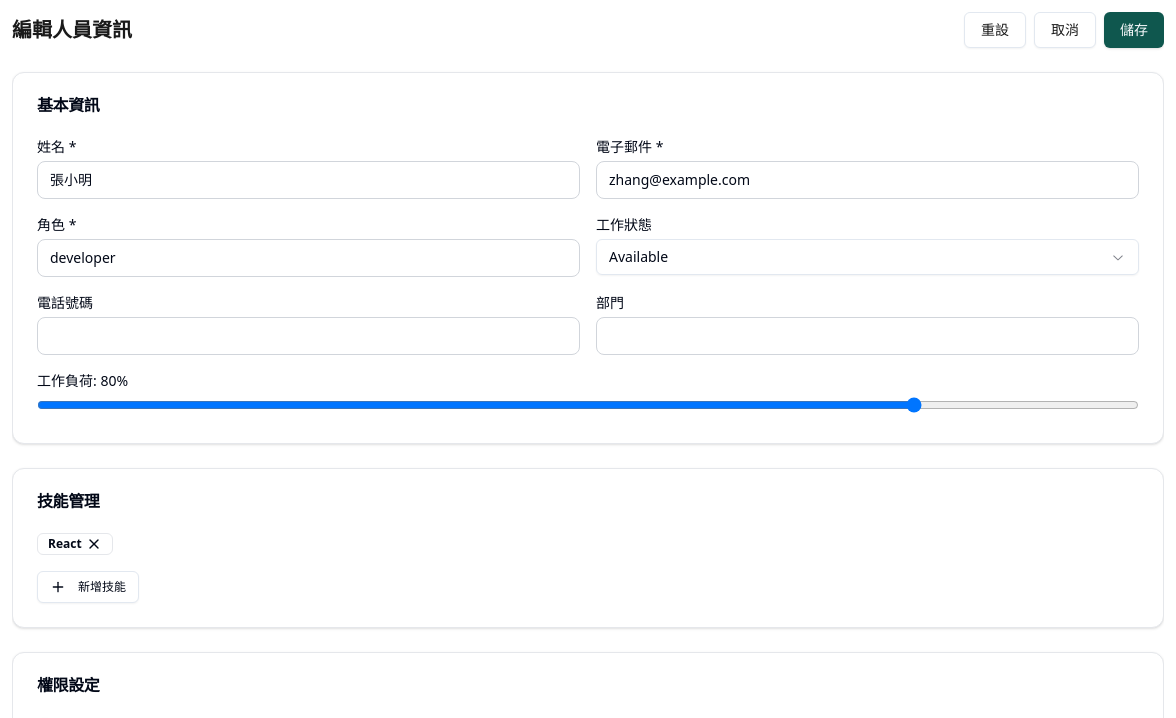
Test: MemberEditForm › 應該支援重設表單
The width and height of the screenshot is (1176, 718).
Step 1. Replace the text in the field labelled "姓名" with "測試名稱" → (308, 180), box top-left (37, 161), bottom-right (580, 199)
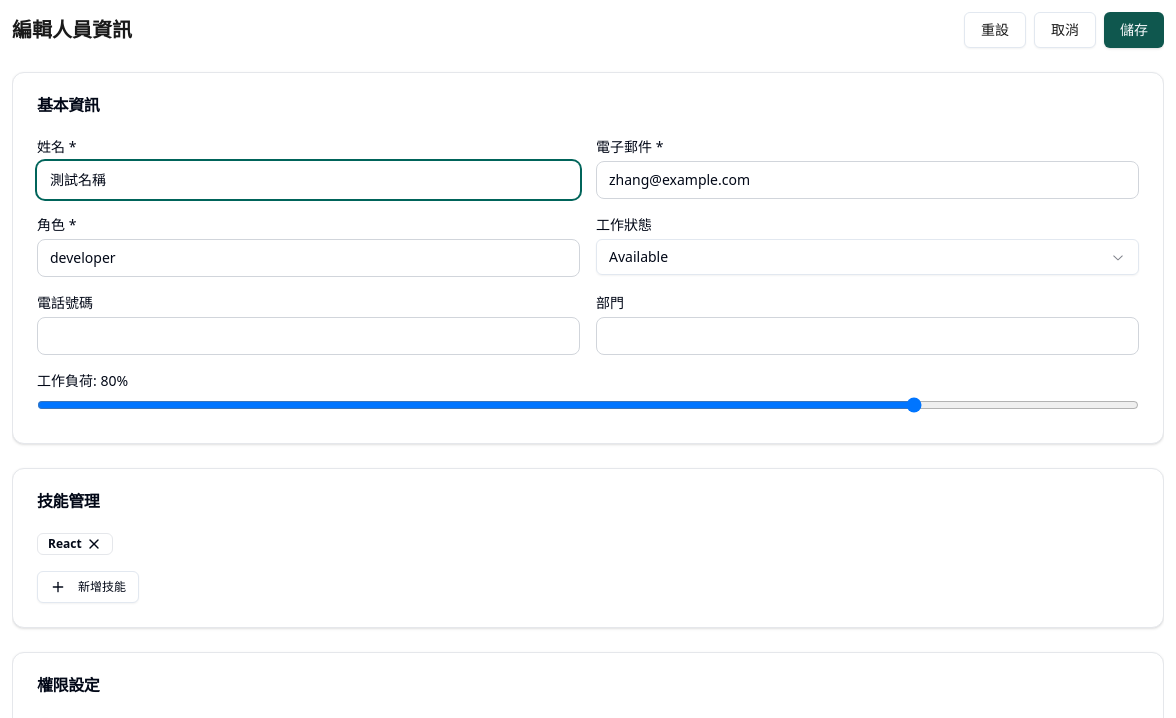
Step 2. Click the button "重設" → click(995, 30), box top-left (964, 12), bottom-right (1026, 48)
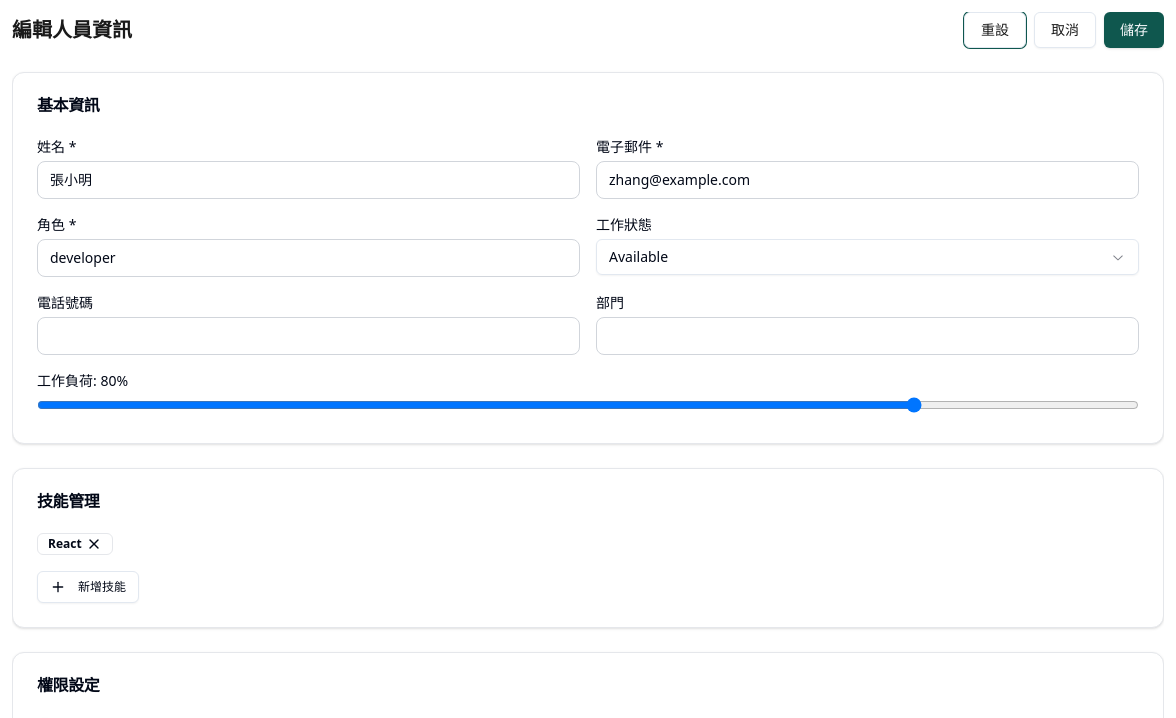
Result: the field showing "張小明" is shown at top-left (37, 161), bottom-right (580, 199)
